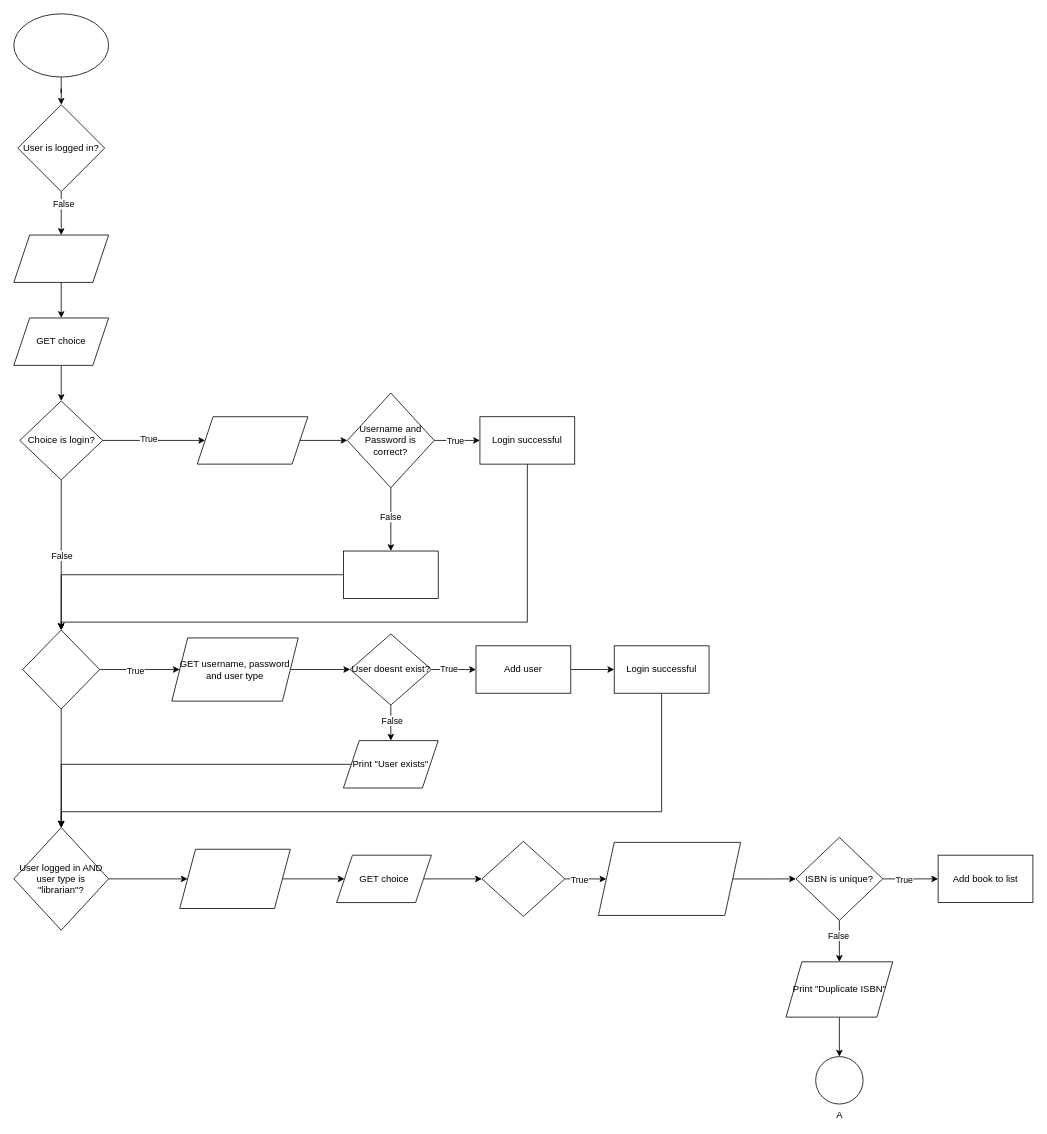
Image size: 1047x1134. Some labels were removed from this diagram. Each missing label, with the centre of its shape:
"Choice is add book?" belongs at point 523,878.
"Choice is register?" belongs at point 61,669.
"Display librarian page" belongs at point 234,878.
"GET Title, Author, ISBN and number of books" belongs at point 669,878.
"GET username and password" belongs at point 252,440.
"Login Failed" belongs at point 390,574.
"Prompt Login or Register" belongs at point 61,258.
"Start" belongs at point 61,45.
